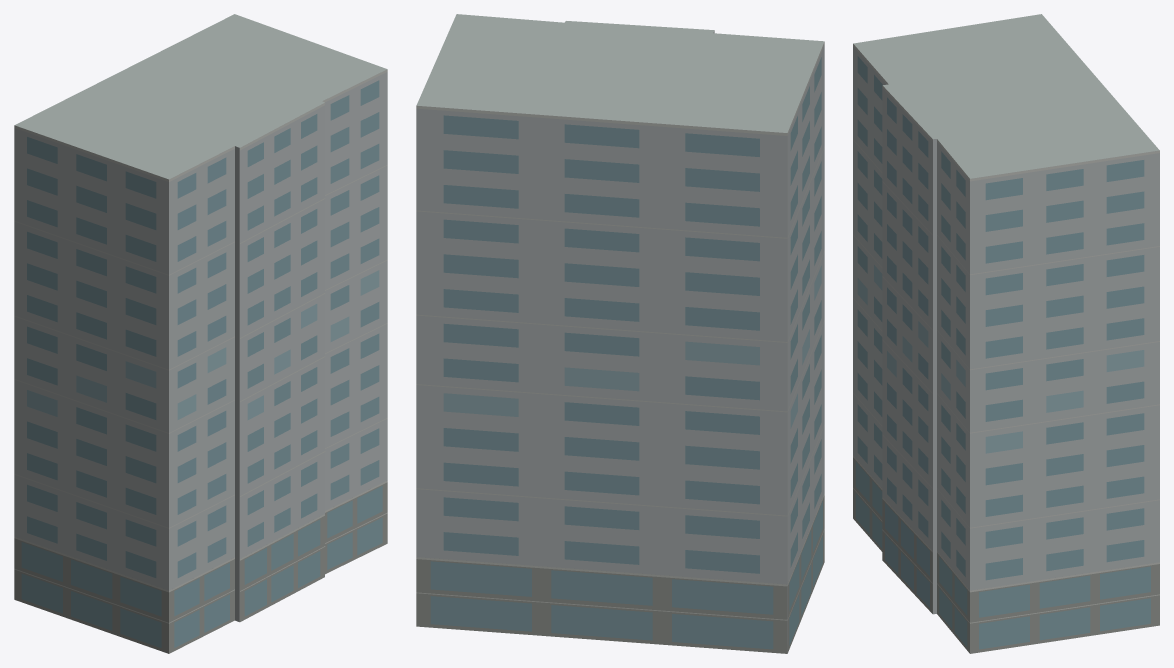
Rendered from survey-upis-32944789.glb.
3 renders of one model, left to right at view 1: azimuth 30°, elevation 25°; view 2: azimuth 150°, elevation 25°; view 3: azimuth 270°, elevation 25°, orthographic. The views are drawn at different scales.
Visible parts, largest first — view 1: survey-upis-32944789.tmp; view 2: survey-upis-32944789.tmp; view 3: survey-upis-32944789.tmp.
Part boxes in pixels (box(x1,y1,x2,y2)): survey-upis-32944789.tmp: box(14, 14, 387, 653); survey-upis-32944789.tmp: box(416, 14, 824, 653); survey-upis-32944789.tmp: box(853, 14, 1159, 653).
Size of the model in its own units: 32.5 by 43.65 by 25.56.
